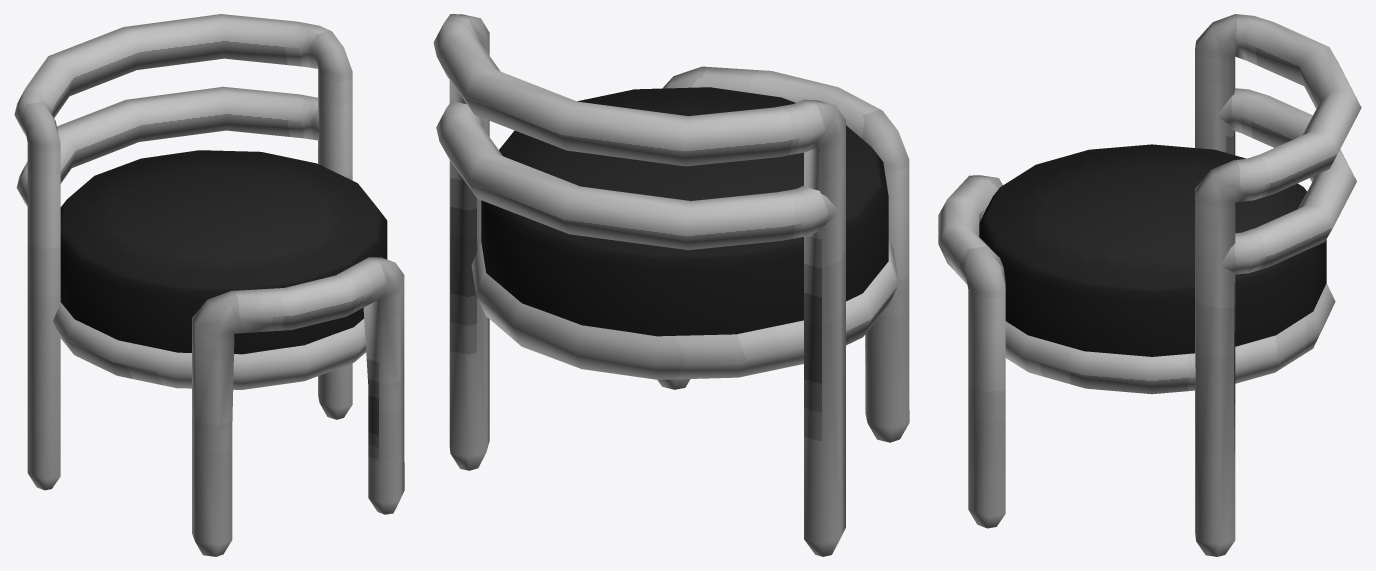
Rendered from rmk_pip_chairS.dae.
The picture shows the model from 3 angles, left to right: view 1: azimuth 30°, elevation 25°; view 2: azimuth 150°, elevation 25°; view 3: azimuth 270°, elevation 25°; orthographic projection. The views are drawn at different scales.
Parts seen in each view (by area): view 1: rmk_pip_chairS; view 2: rmk_pip_chairS; view 3: rmk_pip_chairS.
Boxes of the visible parts, x1=… form: rmk_pip_chairS: x1=14, y1=14, x2=404, y2=556; rmk_pip_chairS: x1=433, y1=14, x2=909, y2=556; rmk_pip_chairS: x1=938, y1=14, x2=1361, y2=556.
Bounding box in the file's own units: 20.83 × 23.36 × 23.04.
Materials: 2 (2 with a texture image).
